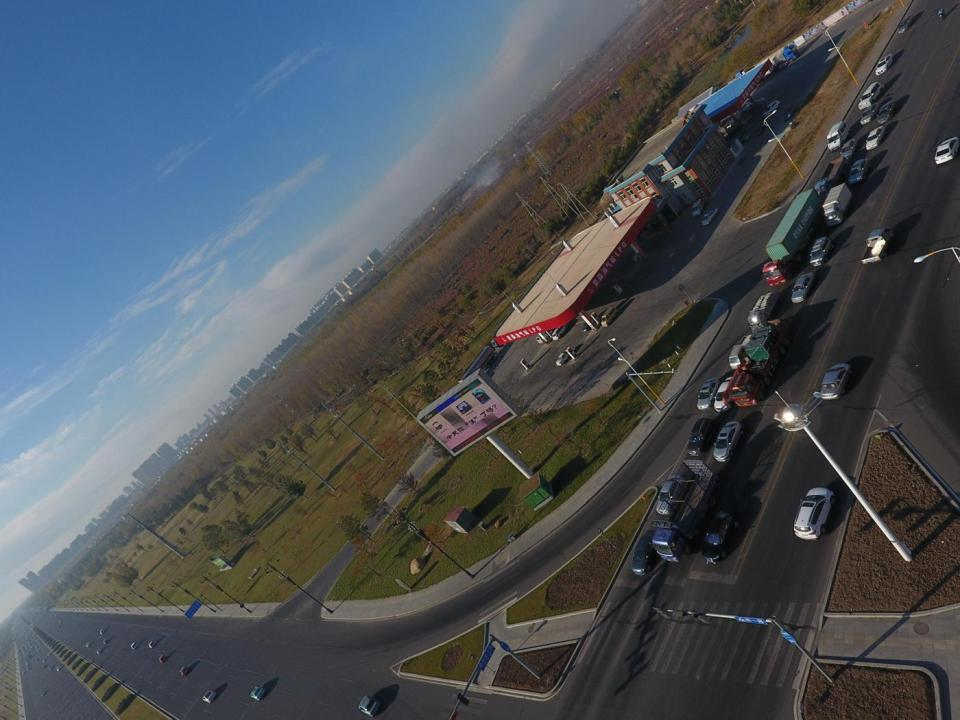car: (794, 487, 835, 542), (701, 508, 740, 563), (713, 420, 744, 463), (632, 530, 659, 576), (656, 474, 686, 515), (820, 362, 852, 400), (686, 417, 716, 456), (714, 377, 738, 412), (697, 377, 720, 411), (934, 135, 960, 164), (791, 273, 816, 303), (810, 237, 834, 267), (858, 82, 883, 109), (848, 159, 872, 185), (865, 126, 886, 152), (358, 694, 382, 716), (878, 99, 897, 125), (875, 54, 894, 76), (861, 102, 879, 125), (701, 207, 720, 226), (556, 348, 576, 366), (896, 14, 914, 34), (763, 100, 781, 118), (552, 322, 569, 341), (250, 686, 266, 700), (736, 101, 750, 117), (732, 133, 750, 145), (755, 121, 769, 136), (747, 99, 764, 110), (202, 690, 216, 703), (180, 666, 191, 677), (158, 654, 168, 664), (130, 642, 138, 650), (148, 640, 156, 648), (96, 647, 102, 655), (103, 638, 108, 646), (40, 690, 46, 696), (85, 642, 91, 648), (48, 664, 53, 670), (56, 665, 61, 671), (99, 629, 104, 635), (47, 650, 51, 656), (56, 624, 60, 629), (42, 663, 46, 668), (58, 620, 62, 624), (21, 670, 25, 674), (26, 666, 30, 670), (42, 658, 46, 662), (22, 658, 28, 660), (35, 645, 38, 648), (54, 614, 58, 616), (52, 611, 56, 613), (52, 616, 55, 618), (49, 614, 52, 616), (36, 658, 38, 661), (27, 664, 30, 666), (25, 663, 28, 665), (25, 660, 28, 662), (37, 650, 40, 652), (37, 641, 40, 643), (39, 642, 41, 644)
truck: (651, 460, 718, 562), (722, 315, 790, 407), (763, 188, 824, 287), (490, 297, 535, 350), (456, 346, 496, 394), (746, 45, 800, 76), (718, 64, 775, 91), (813, 156, 846, 200), (822, 182, 853, 227), (748, 291, 780, 332), (861, 227, 895, 264), (735, 56, 779, 84), (729, 334, 758, 370), (691, 195, 710, 217), (28, 655, 32, 658)
van: (826, 121, 850, 150), (840, 137, 858, 159), (601, 306, 620, 326), (535, 326, 553, 343), (783, 101, 798, 121)
